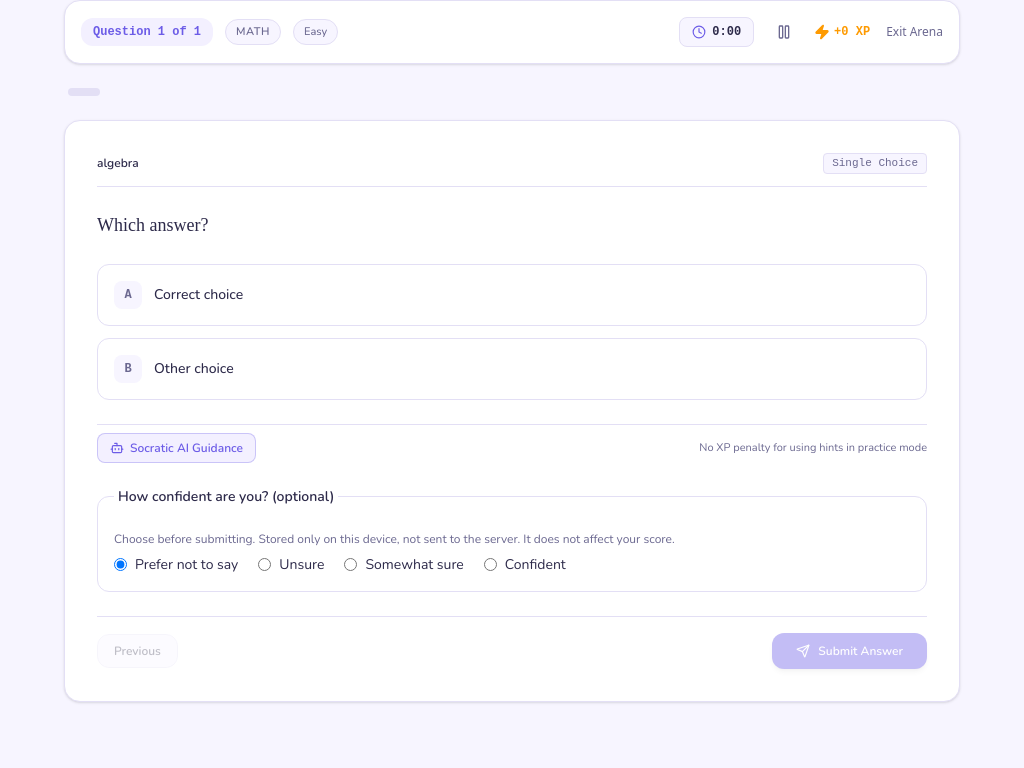
Scenario: practice XP display › queues an invalid success response for an idempotent retry without inventing XP
Click the button "A Correct choice".
click(199, 294)  # box [97,264,927,326]
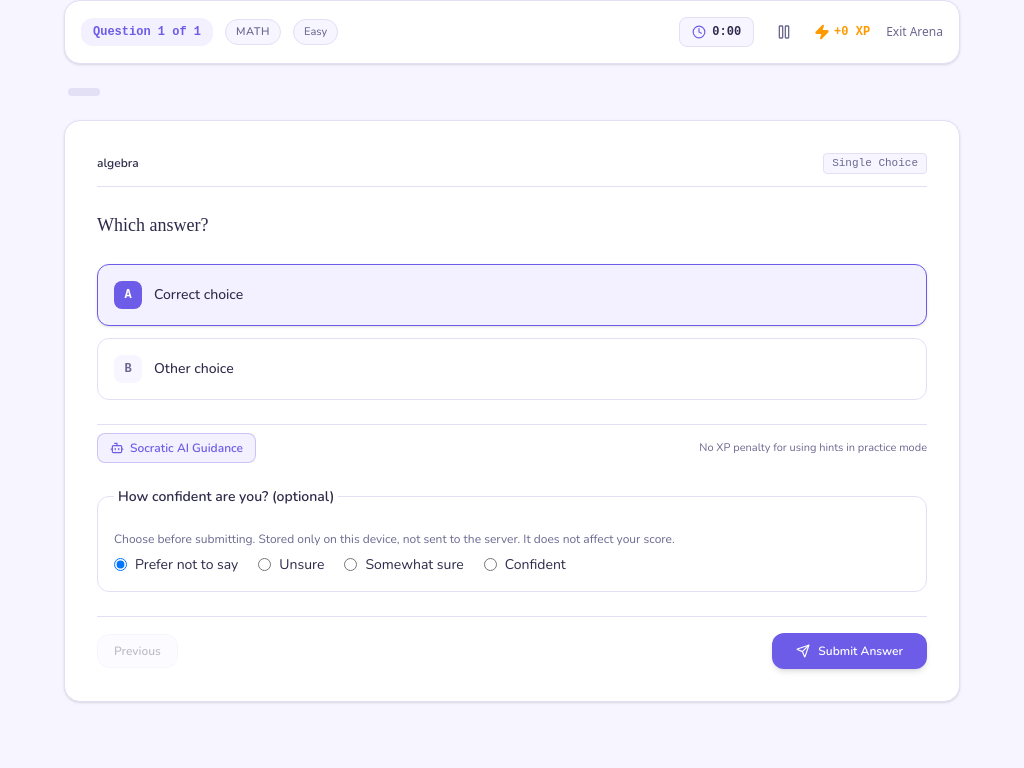
Click the button "Submit Answer".
click(850, 651)  # box [772,633,927,669]
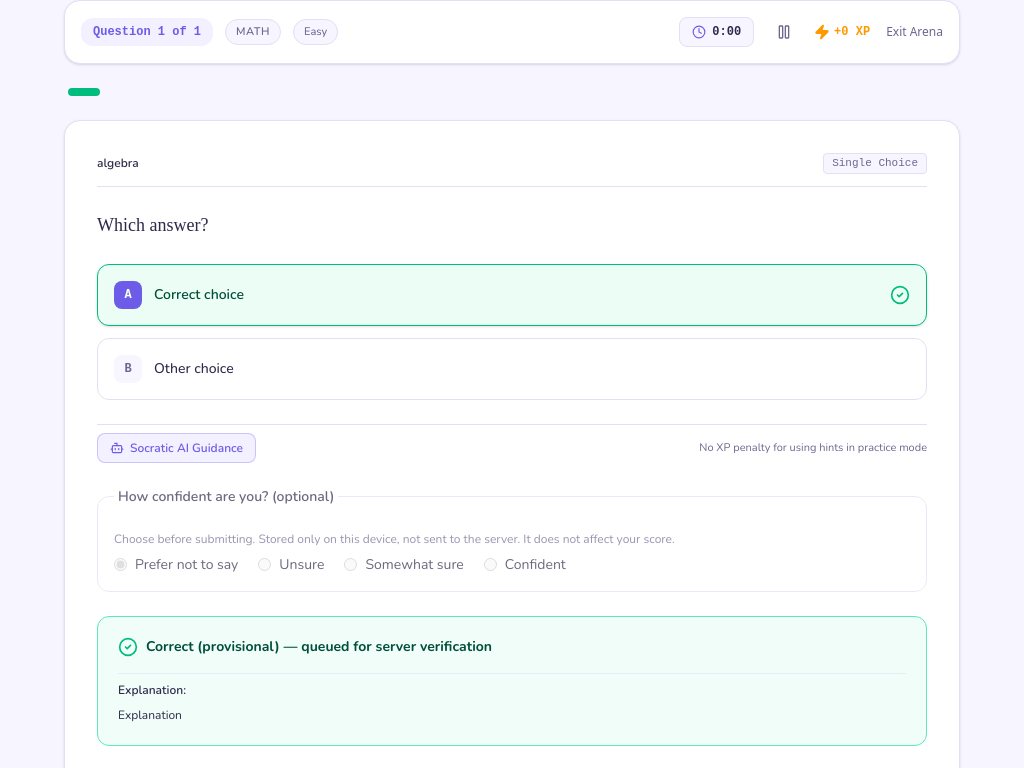
Expected: the text "provisional" is shown, [146,637,492,656]
